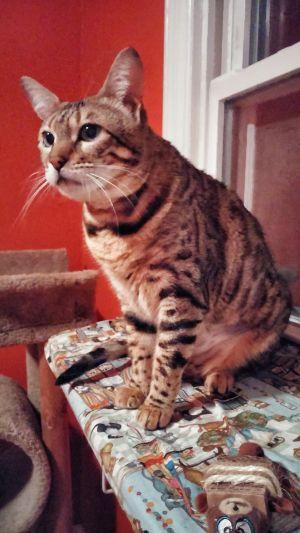bengal: (16, 50, 156, 227)
